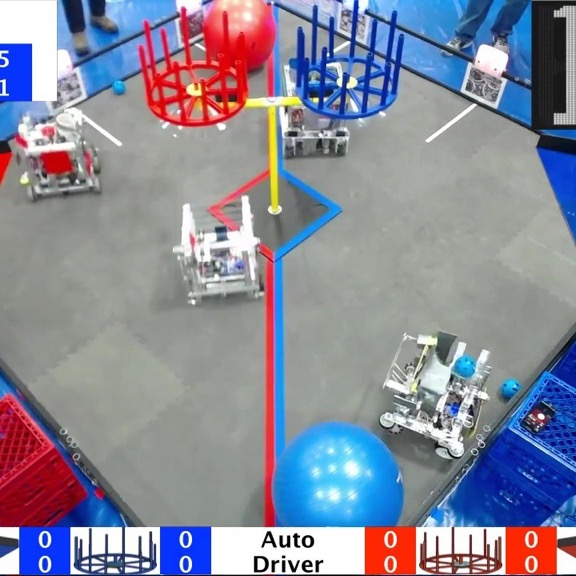ball: (450, 350, 480, 380), (495, 376, 525, 402), (108, 77, 129, 98)
robot: (375, 324, 496, 462), (173, 194, 271, 309), (7, 105, 108, 204), (276, 54, 353, 161)
yogaball: (268, 417, 408, 531), (197, 0, 279, 77)
